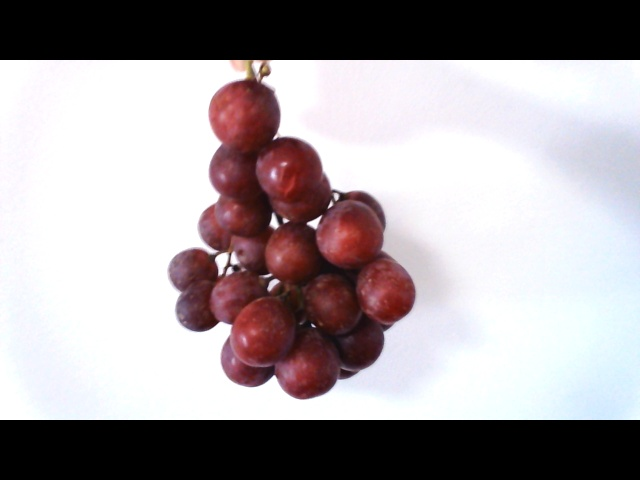grape: (172, 94, 414, 391)
